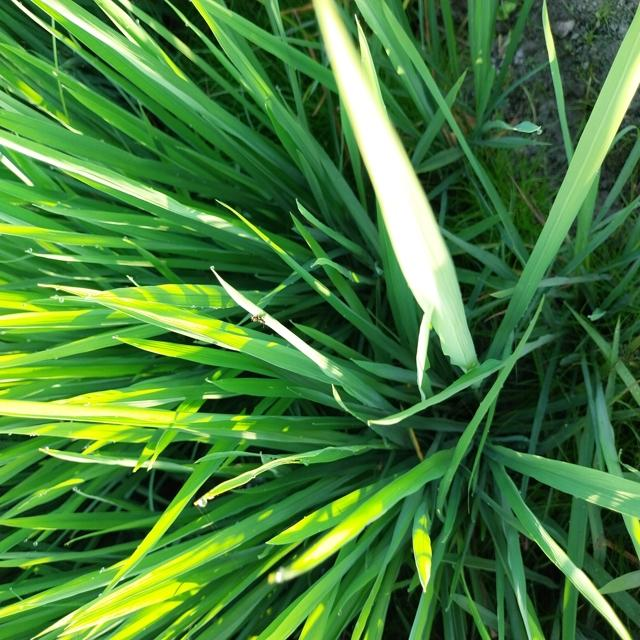healthy: (246, 307, 276, 335)
